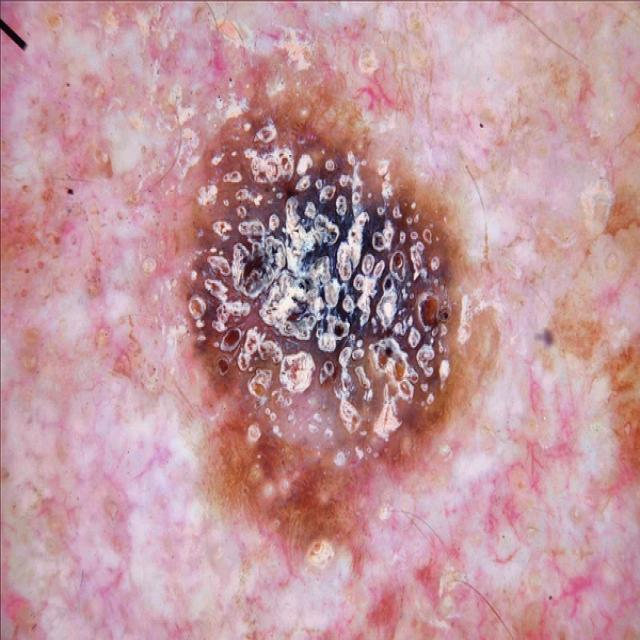Benign-Keratosis-like-Lesions-BKL-: (71, 44, 551, 594)
